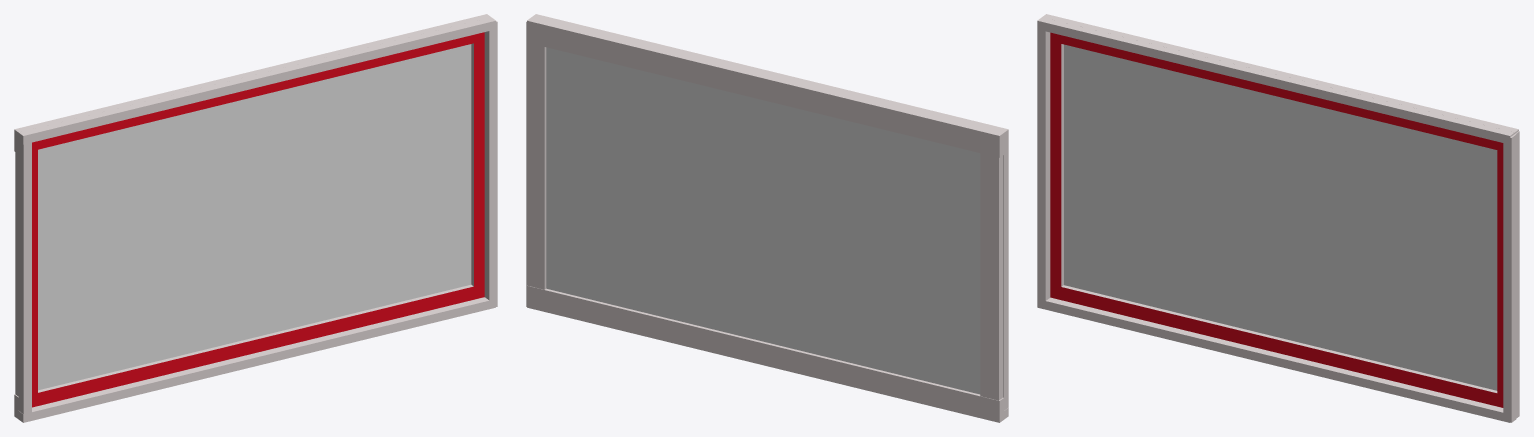
Rendered from çerçeve.fbx.
The picture shows the model from 3 angles, left to right: view 1: azimuth 30°, elevation 25°; view 2: azimuth 150°, elevation 25°; view 3: azimuth 330°, elevation 25°; orthographic projection.
Visible parts, largest first — view 1: Plane, Cube.003; view 2: Plane, Cube.003; view 3: Plane, Cube.003.
Part boxes in pixels (x1,y1,x2,y2): Plane: (38, 44, 471, 390); Cube.003: (14, 14, 497, 422); Plane: (546, 47, 980, 394); Cube.003: (526, 14, 1008, 422); Plane: (1064, 44, 1497, 390); Cube.003: (1037, 14, 1519, 422).
Bounding box in the file's own units: 11481 × 6637 × 382.
